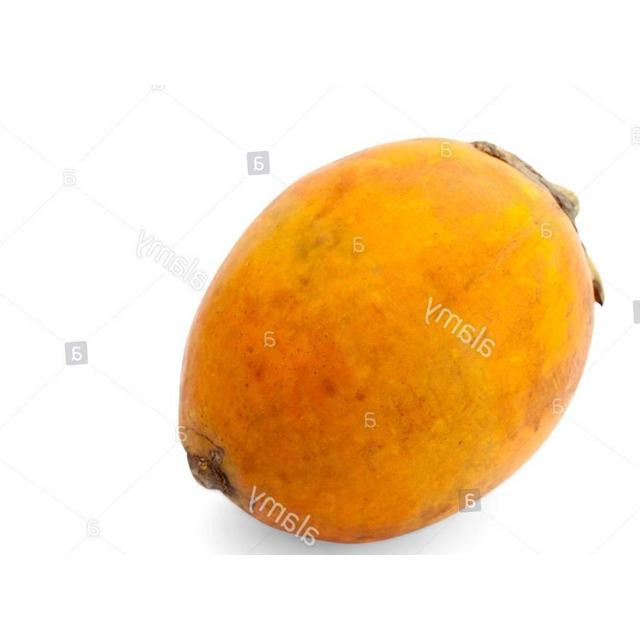good: (176, 137, 602, 546)
